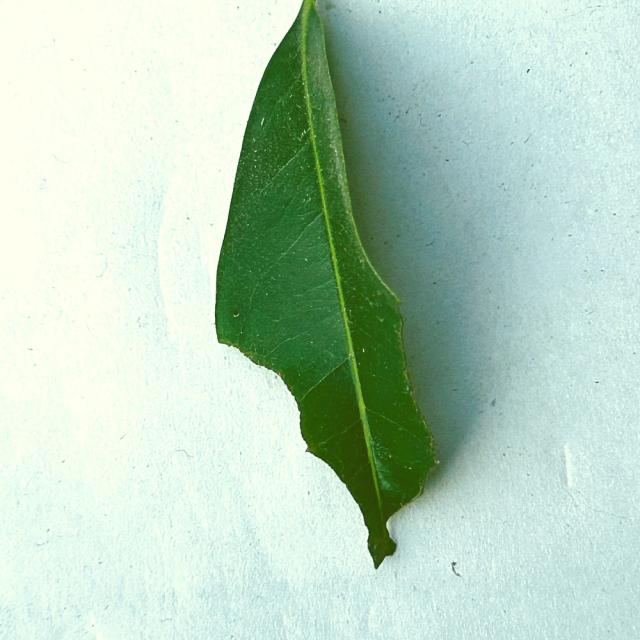Deficiency Leaf: (223, 348, 373, 585)
Lychee: (216, 0, 435, 566)
